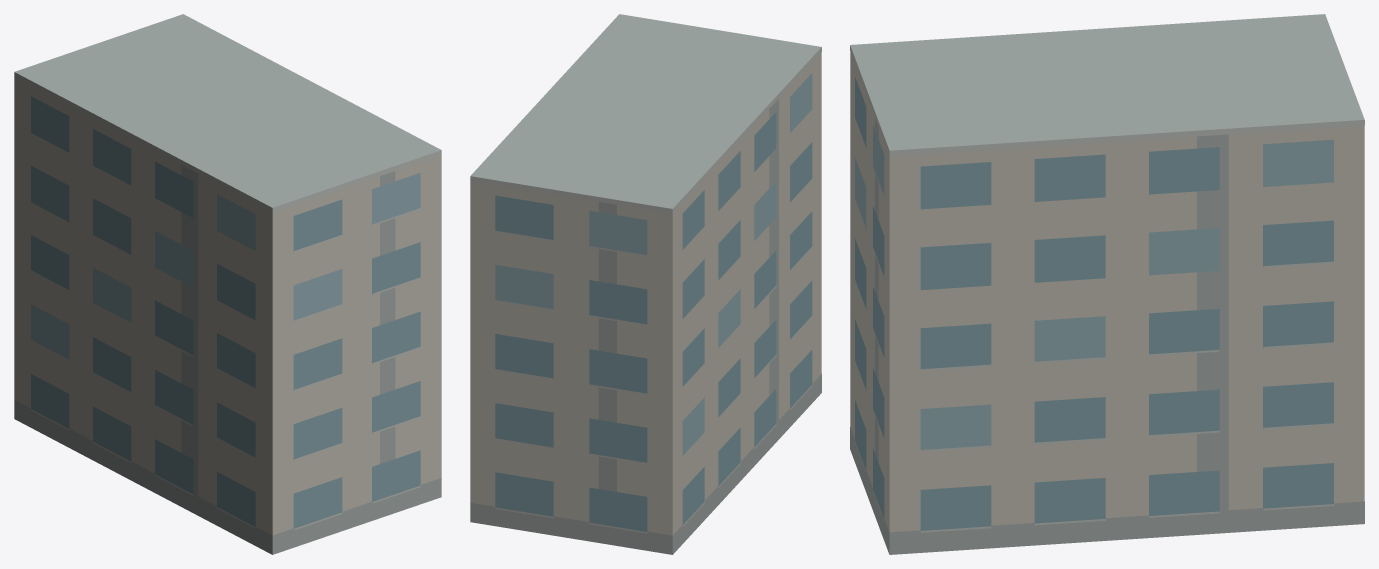
Rendered from survey-upis-32768810.glb.
The picture shows the model from 3 angles, left to right: view 1: azimuth 30°, elevation 25°; view 2: azimuth 150°, elevation 25°; view 3: azimuth 270°, elevation 25°; orthographic projection. The views are drawn at different scales.
Visible parts, largest first — view 1: survey-upis-32768810.tmp; view 2: survey-upis-32768810.tmp; view 3: survey-upis-32768810.tmp.
Part boxes in pixels (x1,y1,x2,y2): survey-upis-32768810.tmp: [14, 14, 441, 554]; survey-upis-32768810.tmp: [470, 14, 821, 554]; survey-upis-32768810.tmp: [850, 14, 1364, 554].
Size of the model in its own units: 12.19 by 16.8 by 19.4.
